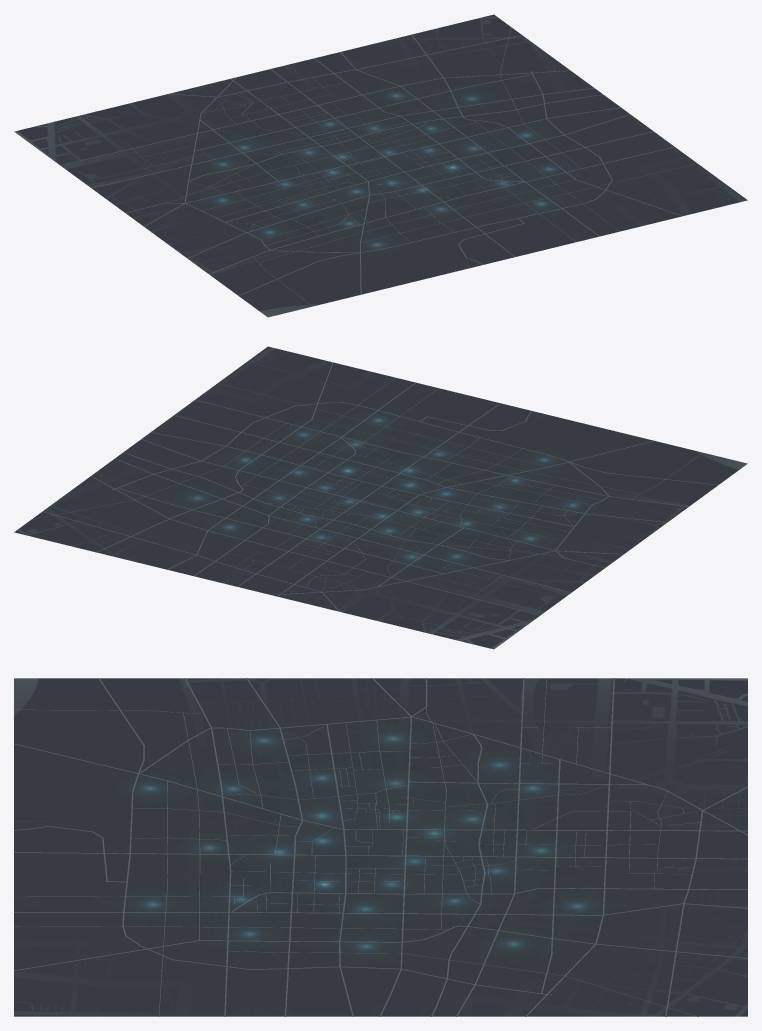
File: StandardSite01.gltf
The picture shows the model from 3 angles, top to bottom: view 1: azimuth 30°, elevation 25°; view 2: azimuth 150°, elevation 25°; view 3: azimuth 270°, elevation 25°; orthographic projection. The views are drawn at different scales.
Parts seen in each view (by area): view 1: metalsite01, metalroad; view 2: metalsite01, metalroad; view 3: metalsite01, metalroad.
Part boxes in pixels (<box>): metalsite01: <box>14,14,747,317</box>; metalroad: <box>60,27,696,306</box>; metalsite01: <box>14,346,747,649</box>; metalroad: <box>32,362,718,615</box>; metalsite01: <box>14,678,747,1016</box>; metalroad: <box>14,678,747,1016</box>.
Bounding box in the file's own units: 17624 × 3 × 16148.
2 materials, 2 textured.
